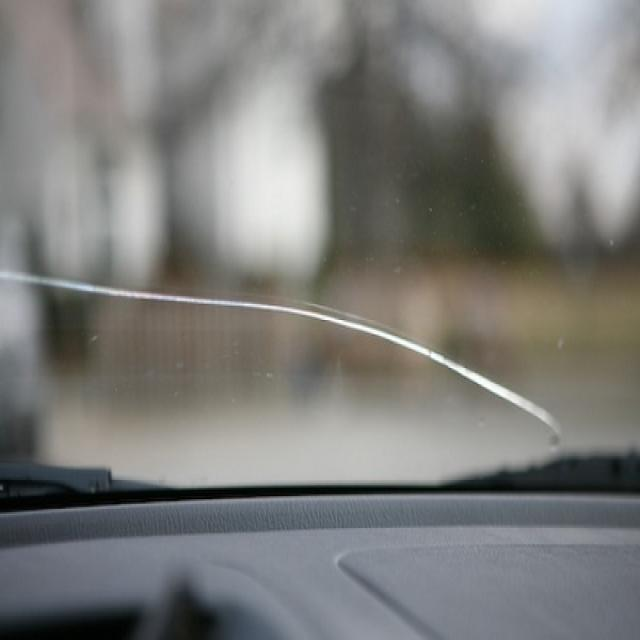crack: (0, 262, 569, 444)
